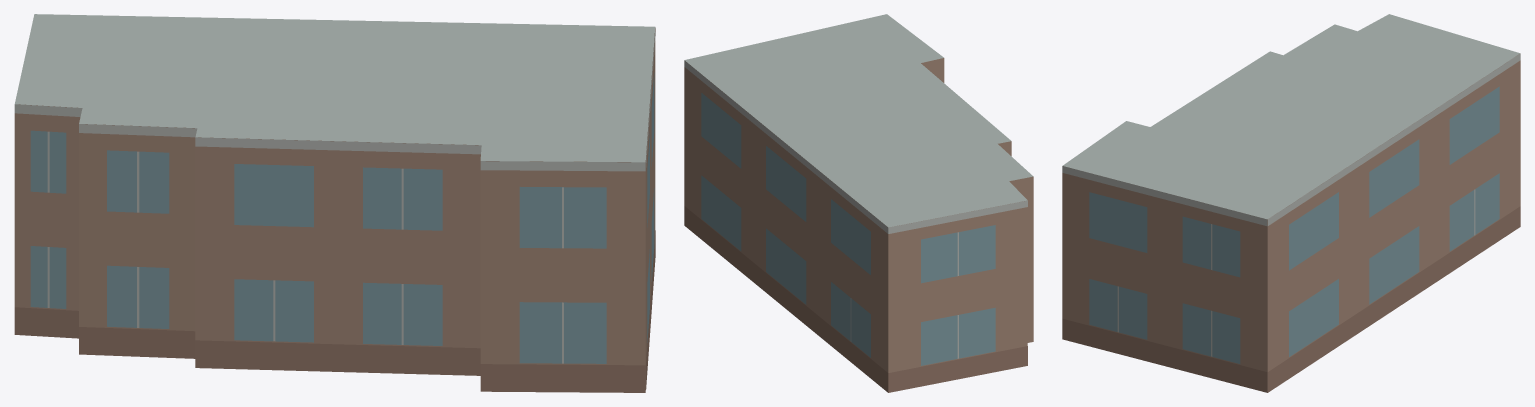
Rendered from survey-upis-32877868.glb.
The picture shows the model from 3 angles, left to right: view 1: azimuth 30°, elevation 25°; view 2: azimuth 150°, elevation 25°; view 3: azimuth 270°, elevation 25°; orthographic projection. The views are drawn at different scales.
Visible parts, largest first — view 1: survey-upis-32877868.tmp; view 2: survey-upis-32877868.tmp; view 3: survey-upis-32877868.tmp.
Boxes of the visible parts, x1,y1,x2,y2 form: survey-upis-32877868.tmp: [14, 14, 655, 392]; survey-upis-32877868.tmp: [684, 14, 1033, 392]; survey-upis-32877868.tmp: [1062, 14, 1520, 392].
Bounding box in the file's own units: 15.51 × 6.1 × 14.62.
